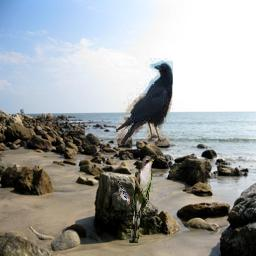Crow: (117, 58, 174, 146)
Cuckoo: (129, 155, 155, 243)
Woodpecker: (118, 179, 131, 205)
